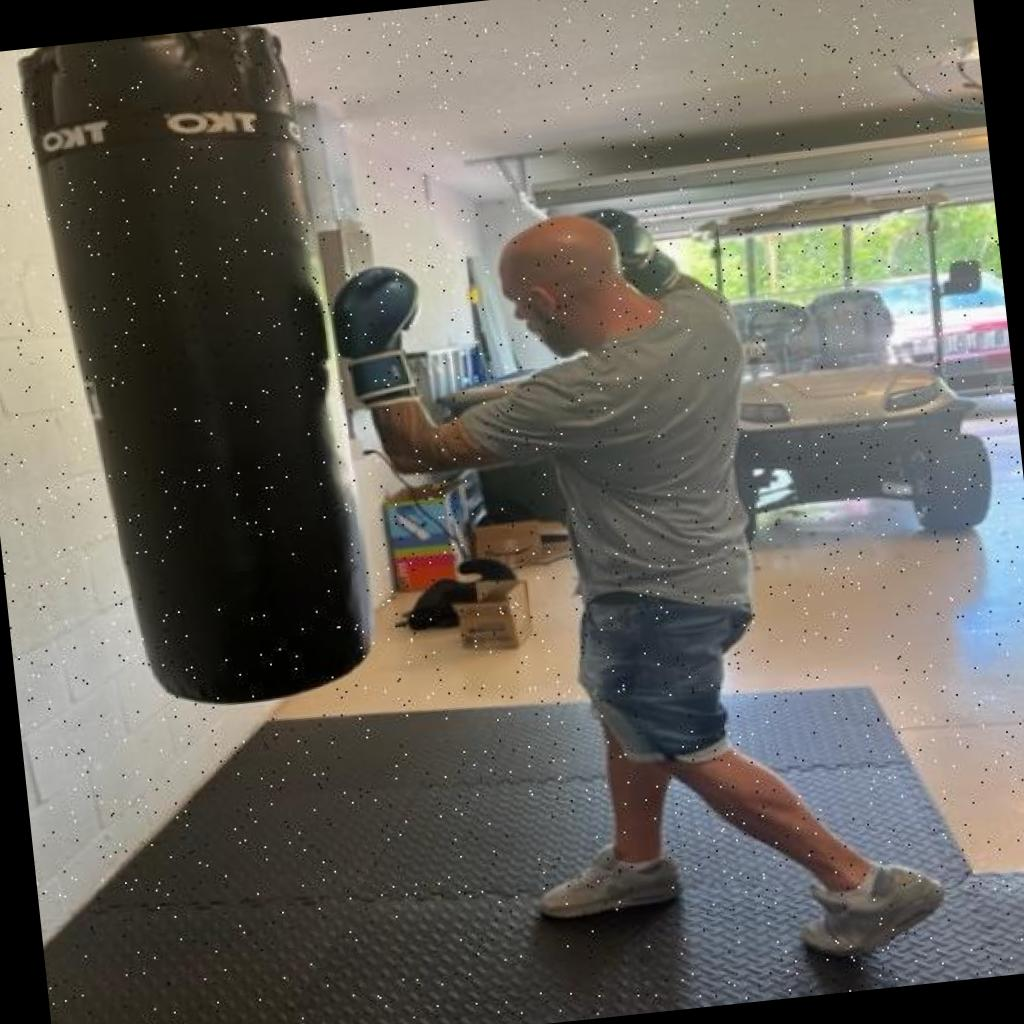uppercut: (302, 166, 768, 520)
